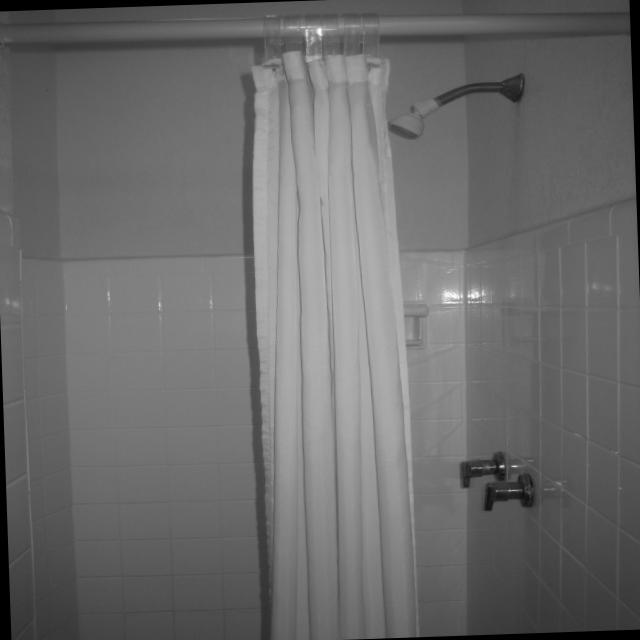curtain crop: (252, 15, 421, 639)
rail crop: (0, 12, 625, 43)
shower crop: (395, 72, 519, 139)
wall clock: (48, 0, 470, 640), (470, 0, 640, 635), (0, 11, 80, 640)
